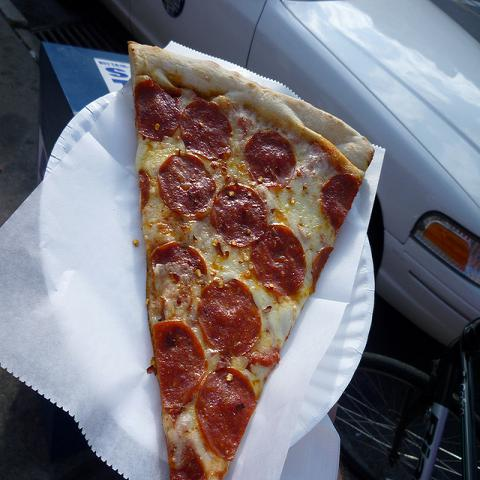car: (110, 0, 480, 348)
